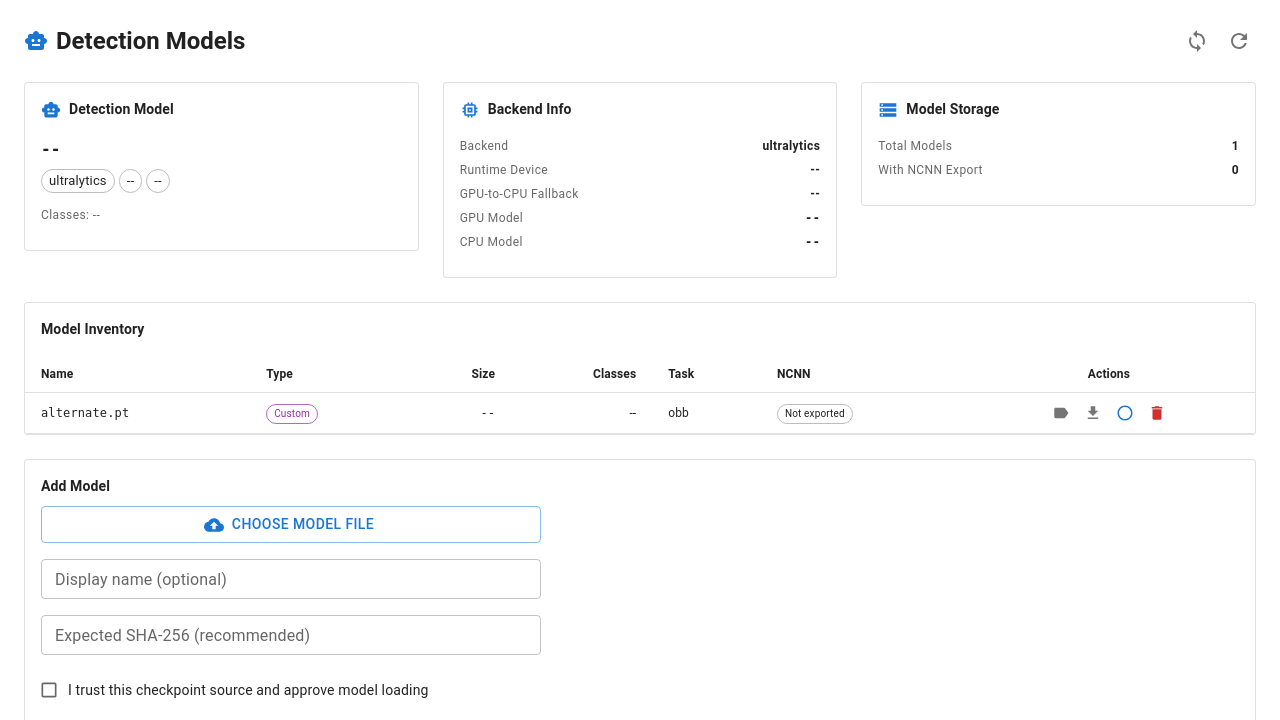
ModelsPage local model registration › shows structured model selection errors to the operator
This screenshot has width=1280, height=720.
Click the button named "Select alternate.pt for Smart Mode": (1125,414) [1111, 400, 1139, 428]
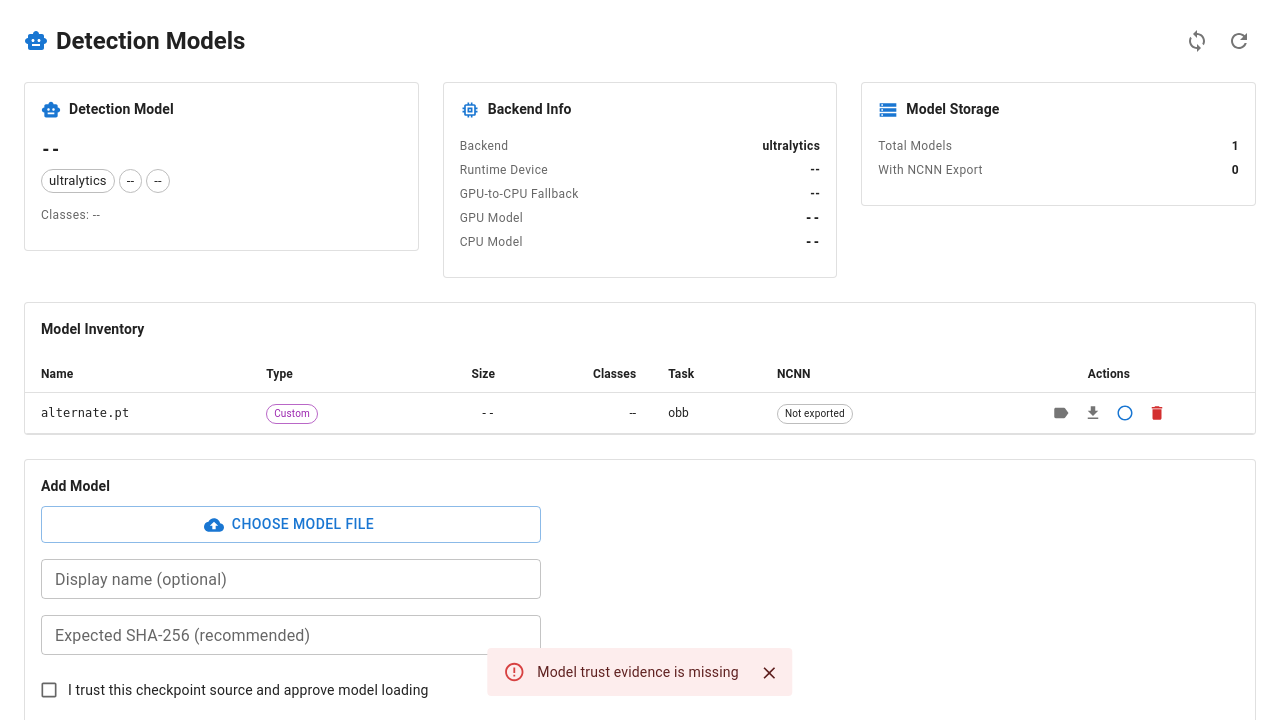
Expected: the text "Model trust evidence is missing" is shown, [537, 662, 739, 682]
